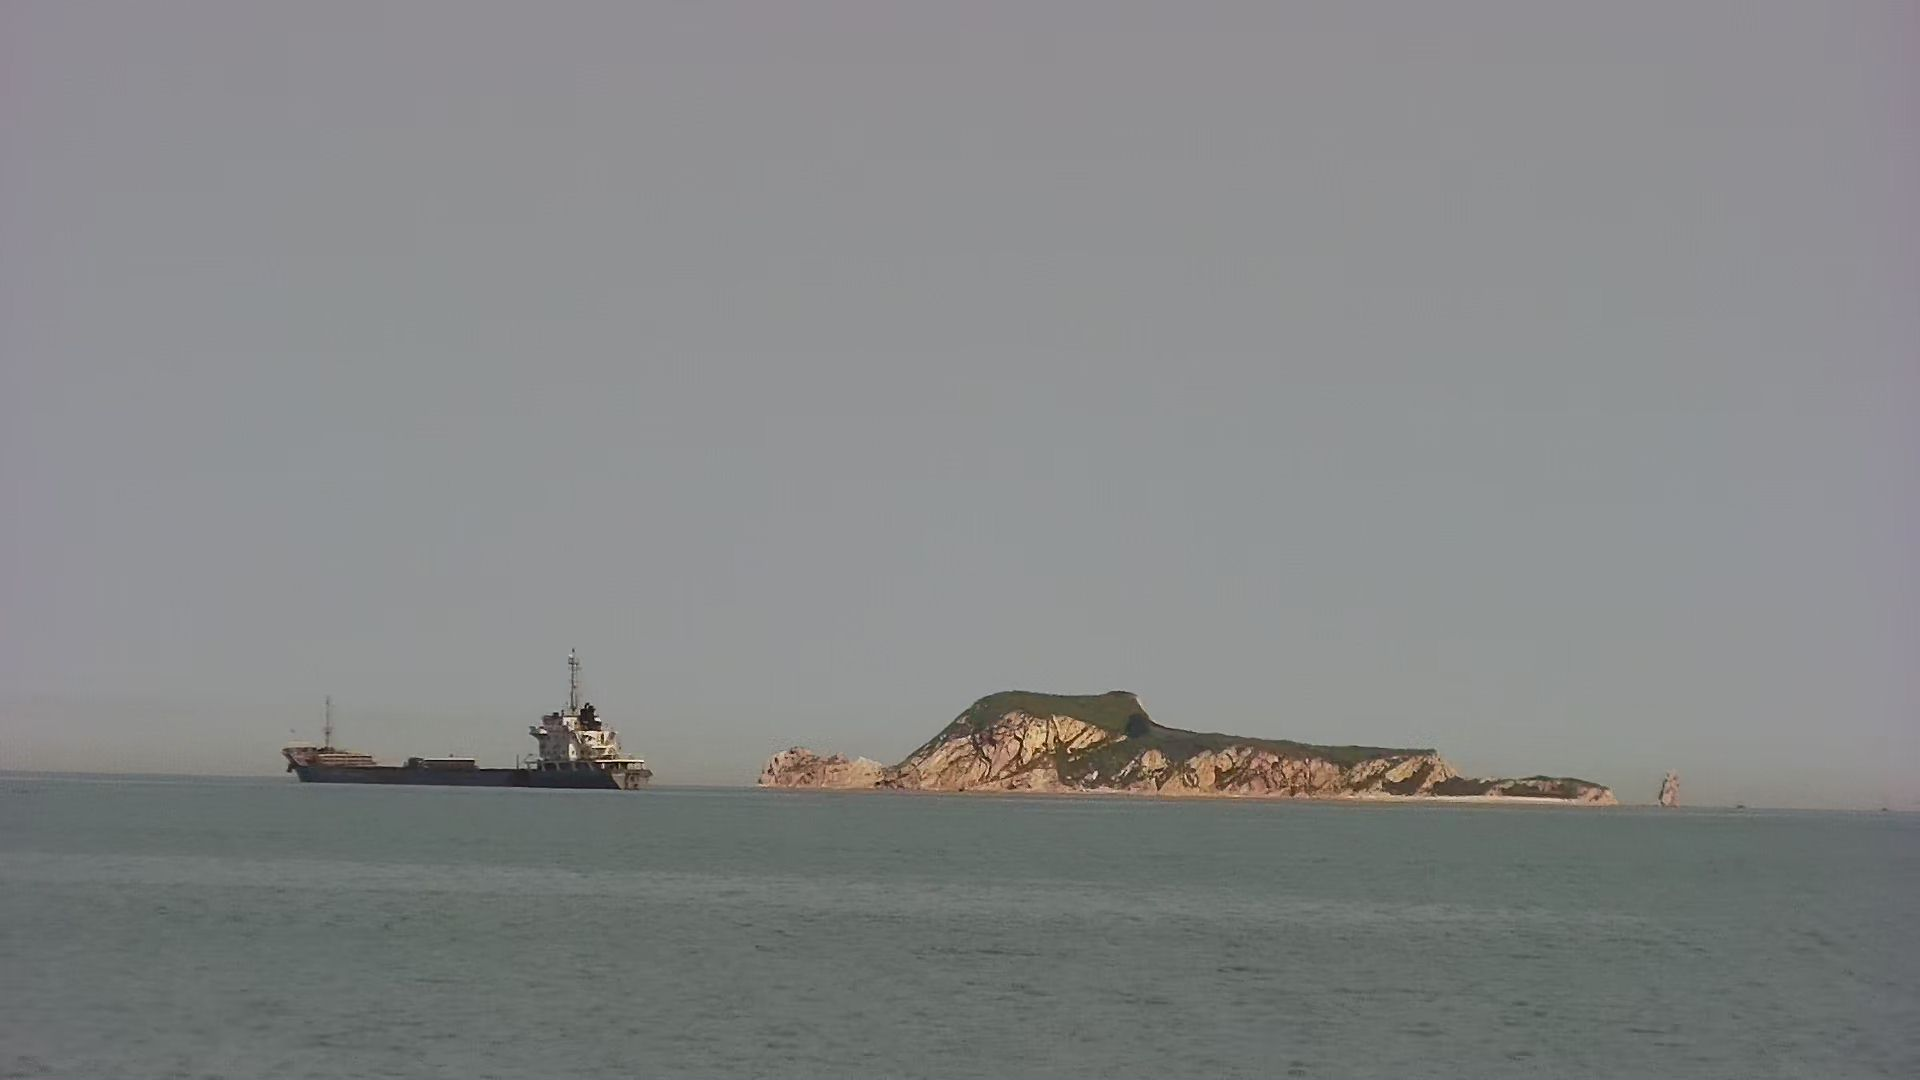rock: (756, 686, 1623, 811)
ship: (278, 687, 665, 795)
